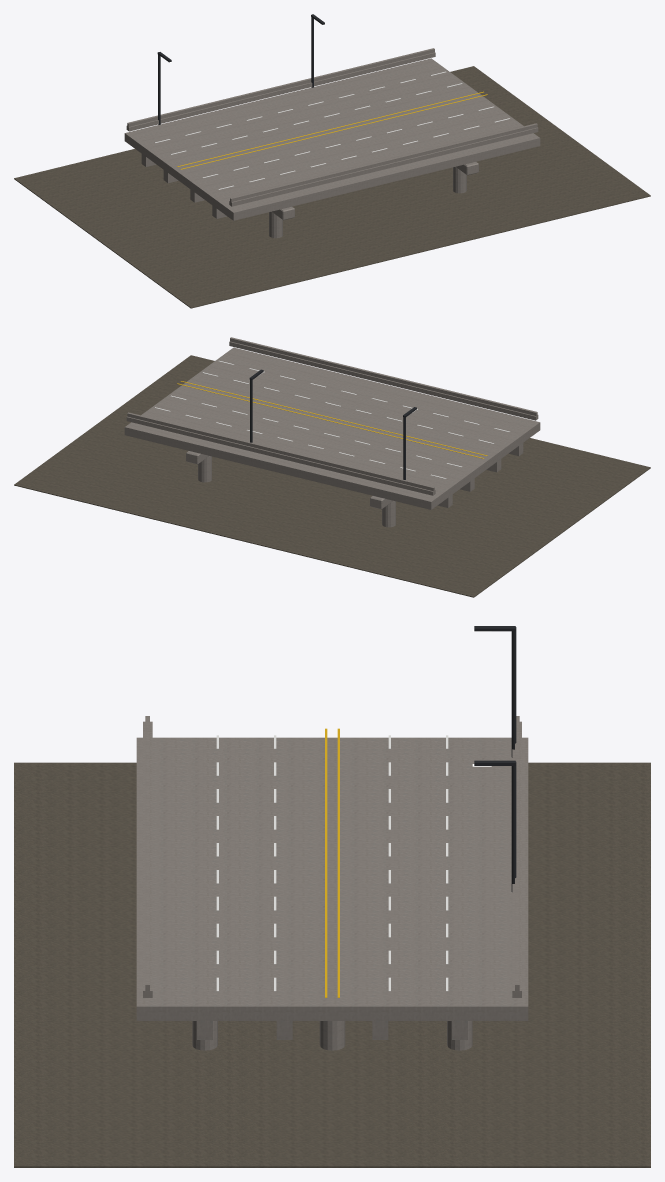
Rendered from OT_Overpass_Freeway.glb.
3 views of the same model, one above another, from view 1: azimuth 30°, elevation 25°; view 2: azimuth 150°, elevation 25°; view 3: azimuth 270°, elevation 25° (orthographic). The views are drawn at different scales.
Visible parts, largest first — view 1: OT_Overpass_Freeway_Pavement, OT_Overpass_Freeway_Concrete, OT_Overpass_Freeway_PaintWhite__f0f0ee, OT_Overpass_Freeway_Yellow__e8b81e, OT_Overpass_Freeway_PoleDark__2a2c30; view 2: OT_Overpass_Freeway_Pavement, OT_Overpass_Freeway_Concrete, OT_Overpass_Freeway_PaintWhite__f0f0ee, OT_Overpass_Freeway_Yellow__e8b81e, OT_Overpass_Freeway_PoleDark__2a2c30; view 3: OT_Overpass_Freeway_Pavement, OT_Overpass_Freeway_Concrete, OT_Overpass_Freeway_PoleDark__2a2c30, OT_Overpass_Freeway_PaintWhite__f0f0ee, OT_Overpass_Freeway_Yellow__e8b81e.
Part boxes in pixels (x1=…): OT_Overpass_Freeway_Pavement: x1=14, y1=66, x2=650, y2=308; OT_Overpass_Freeway_Concrete: x1=124, y1=48, x2=540, y2=238; OT_Overpass_Freeway_PaintWhite__f0f0ee: x1=155, y1=71, x2=509, y2=189; OT_Overpass_Freeway_Yellow__e8b81e: x1=177, y1=91, x2=487, y2=169; OT_Overpass_Freeway_PoleDark__2a2c30: x1=157, y1=14, x2=324, y2=124; OT_Overpass_Freeway_Pavement: x1=14, y1=355, x2=650, y2=597; OT_Overpass_Freeway_Concrete: x1=124, y1=337, x2=540, y2=527; OT_Overpass_Freeway_PaintWhite__f0f0ee: x1=155, y1=360, x2=509, y2=478; OT_Overpass_Freeway_Yellow__e8b81e: x1=177, y1=381, x2=487, y2=458; OT_Overpass_Freeway_PoleDark__2a2c30: x1=249, y1=369, x2=416, y2=479; OT_Overpass_Freeway_Pavement: x1=14, y1=762, x2=650, y2=1167; OT_Overpass_Freeway_Concrete: x1=136, y1=716, x2=528, y2=1050; OT_Overpass_Freeway_PoleDark__2a2c30: x1=474, y1=626, x2=516, y2=891; OT_Overpass_Freeway_PaintWhite__f0f0ee: x1=216, y1=735, x2=448, y2=991; OT_Overpass_Freeway_Yellow__e8b81e: x1=325, y1=728, x2=339, y2=997.
Bounding box in the file's own units: 60 × 16 × 40.
6 materials, 2 textured.
